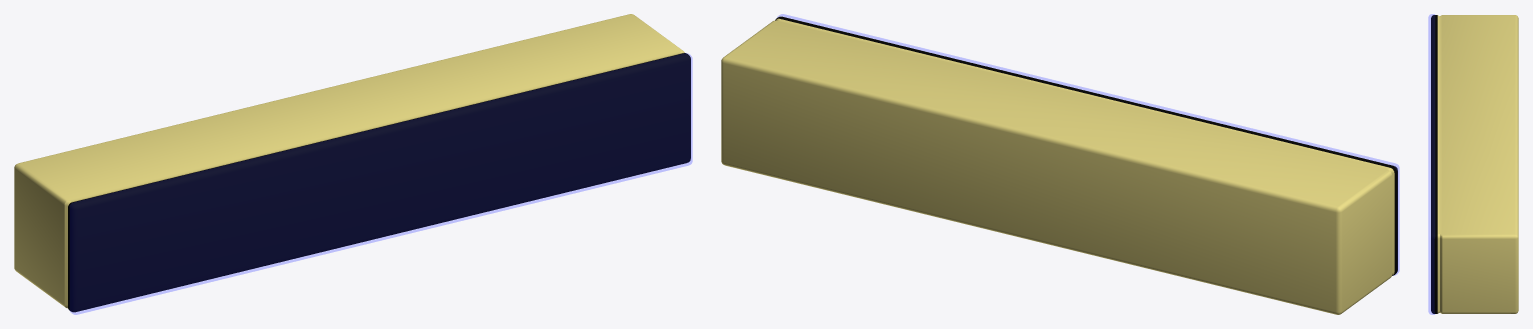
File: wiper_base.glb
3 renders of one model, left to right at view 1: azimuth 30°, elevation 25°; view 2: azimuth 150°, elevation 25°; view 3: azimuth 270°, elevation 25°, orthographic. The views are drawn at different scales.
Visible parts, largest first — view 1: Wiper; view 2: Wiper; view 3: Wiper.
Part boxes in pixels (x1,y1,x2,y2): Wiper: (14,14,692,314); Wiper: (721,14,1399,314); Wiper: (1428,14,1518,314).
Size of the model in its own units: 12 by 2.05 by 2.06.
